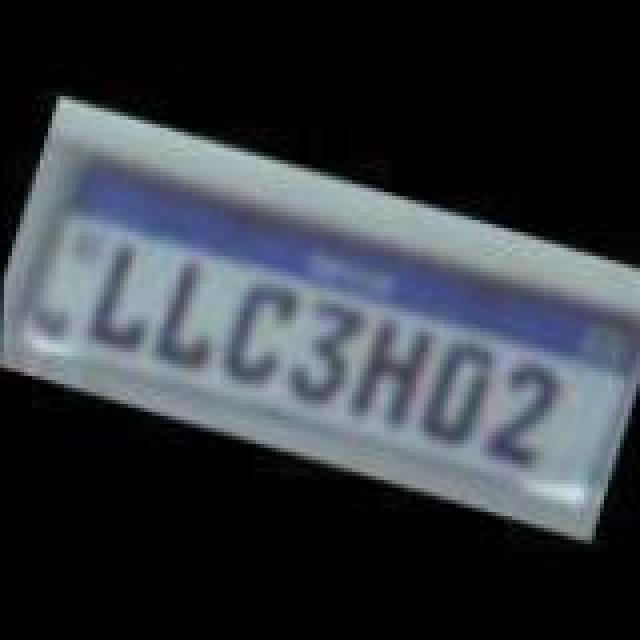2: (470, 338, 566, 466)
3: (282, 280, 374, 412)
C: (212, 270, 300, 394)
D: (408, 322, 500, 450)
H: (334, 302, 430, 434)
L: (146, 244, 238, 376), (76, 236, 164, 360)
